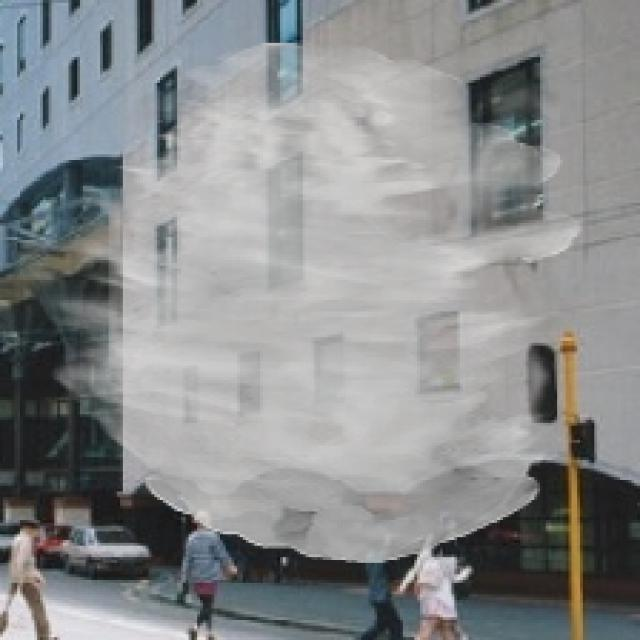smoke: (46, 40, 583, 563)
